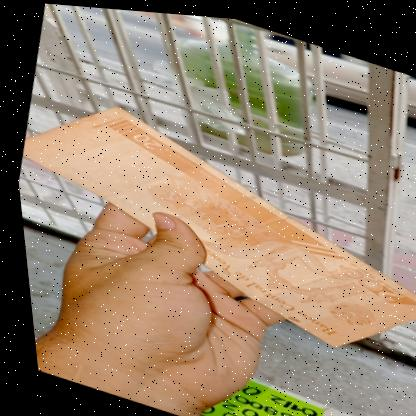twenty-back-vef: (6, 78, 416, 371)
